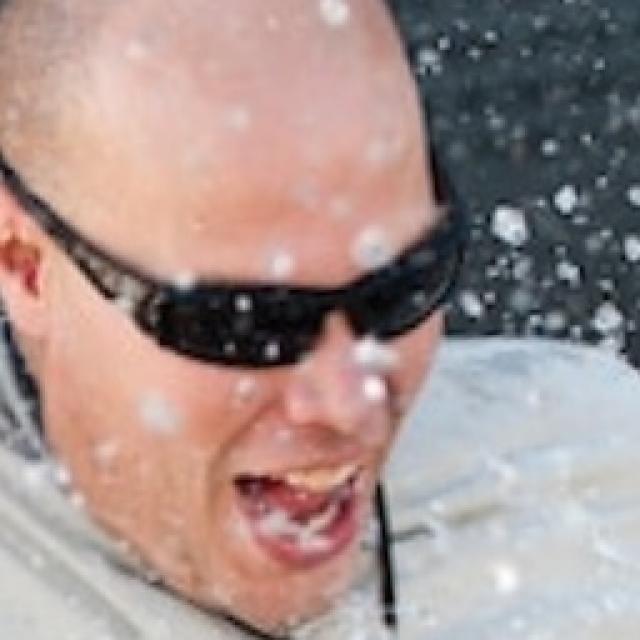glasses: (0, 135, 485, 380)
